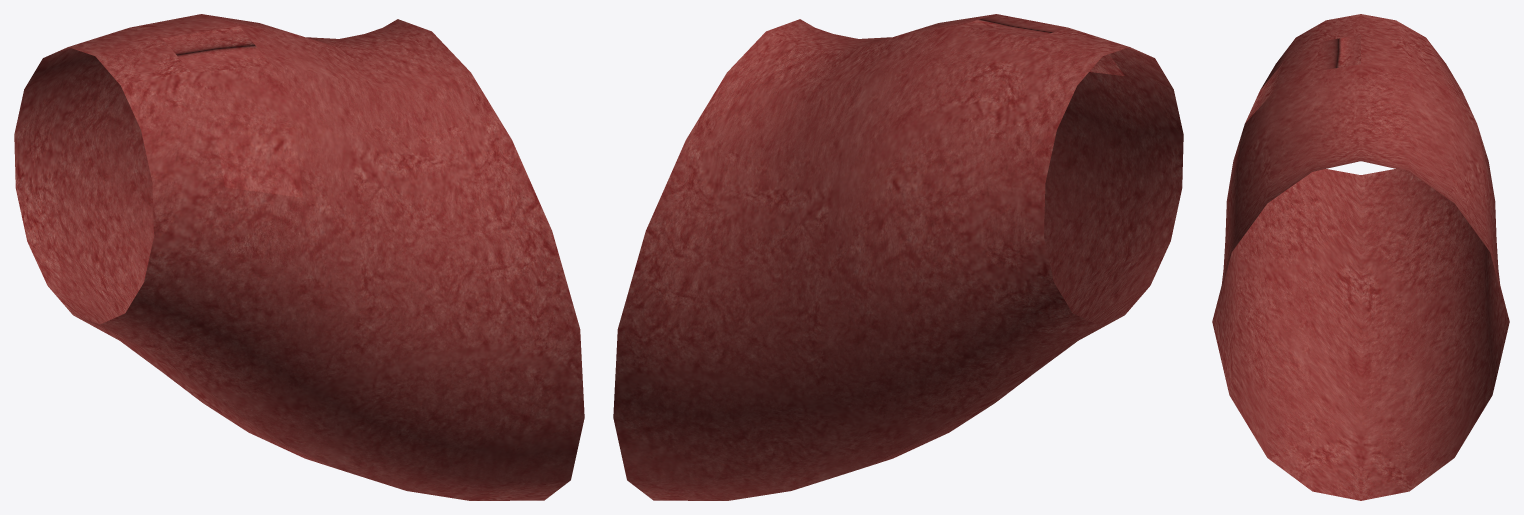
Rendered from Stomach5.fbx.
3 views of the same model, side by side, from view 1: azimuth 30°, elevation 25°; view 2: azimuth 150°, elevation 25°; view 3: azimuth 270°, elevation 25° (orthographic). The views are drawn at different scales.
Visible parts, largest first — view 1: polySurface1977; view 2: polySurface1977; view 3: polySurface1977.
Part boxes in pixels (bbox=[...]): polySurface1977: bbox=[14, 14, 584, 500]; polySurface1977: bbox=[613, 14, 1183, 500]; polySurface1977: bbox=[1212, 14, 1509, 500].
Size of the model in its own units: 6.21 by 7.26 by 5.53.
Materials: 1 (1 with a texture image).
